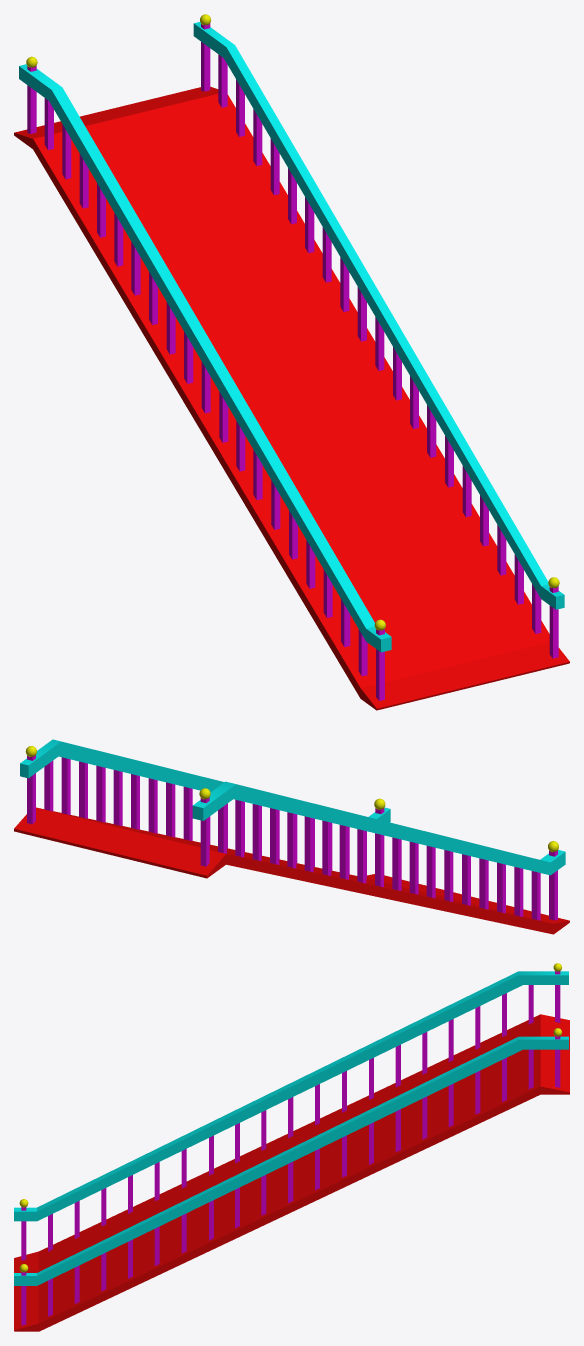
File: bridge 1.fbx
3 views of the same model, one above another, from view 1: azimuth 30°, elevation 25°; view 2: azimuth 150°, elevation 25°; view 3: azimuth 270°, elevation 25° (orthographic). The views are drawn at different scales.
Visible parts, largest first — view 1: pPlane12, pPlane13, pCube148, pCube129, pCube131, pCube128, pCube134, pCube130, pCube136, pCube132, pCube137, pCube138 (+3 smaller); view 2: pPlane12, pPlane13, pCube130, pCube132, pCube133, pCube135, pCube136, pCube131, pCube137, pCube134, pCube129, pCube128 (+11 smaller); view 3: pPlane12, pPlane13, pCube148, pCube131, pCube129, pCube132, pCube133, pCube134, pCube138, pCube128, pCube139.
Boxes of the visible parts, x1=… form: pPlane12: x1=14, y1=86, x2=569, y2=710; pPlane13: x1=19, y1=22, x2=564, y2=652; pCube148: x1=376, y1=586, x2=558, y2=700; pCube129: x1=27, y1=23, x2=210, y2=133; pCube131: x1=79, y1=109, x2=262, y2=208; pCube128: x1=44, y1=54, x2=227, y2=150; pCube134: x1=131, y1=197, x2=314, y2=295; pCube130: x1=62, y1=79, x2=244, y2=179; pCube136: x1=166, y1=257, x2=349, y2=354; pCube132: x1=97, y1=138, x2=279, y2=237; pCube137: x1=184, y1=287, x2=366, y2=383; pCube138: x1=201, y1=317, x2=384, y2=413; pPlane12: x1=14, y1=807, x2=569, y2=934; pPlane13: x1=20, y1=739, x2=565, y2=875; pCube130: x1=61, y1=757, x2=244, y2=857; pCube132: x1=96, y1=765, x2=279, y2=864; pCube133: x1=113, y1=770, x2=296, y2=868; pCube135: x1=148, y1=778, x2=331, y2=875; pCube136: x1=166, y1=782, x2=348, y2=879; pCube131: x1=79, y1=761, x2=261, y2=861; pCube137: x1=183, y1=786, x2=366, y2=883; pCube134: x1=131, y1=774, x2=313, y2=872; pCube129: x1=27, y1=755, x2=209, y2=866; pCube128: x1=44, y1=760, x2=226, y2=853; pPlane12: x1=14, y1=1014, x2=569, y2=1331; pPlane13: x1=14, y1=971, x2=568, y2=1285; pCube148: x1=21, y1=1207, x2=26, y2=1325; pCube131: x1=475, y1=1006, x2=480, y2=1114; pCube129: x1=555, y1=971, x2=560, y2=1087; pCube132: x1=448, y1=1019, x2=453, y2=1126; pCube133: x1=422, y1=1032, x2=427, y2=1139; pCube134: x1=395, y1=1044, x2=400, y2=1151; pCube138: x1=288, y1=1097, x2=293, y2=1203; pCube128: x1=528, y1=985, x2=533, y2=1089; pCube139: x1=261, y1=1110, x2=266, y2=1215.
Size of the model in its own units: 6.12 by 11.85 by 19.92.
